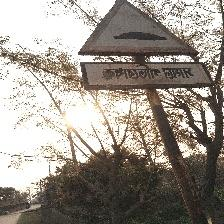Speed-breaker: (77, 0, 213, 92)
